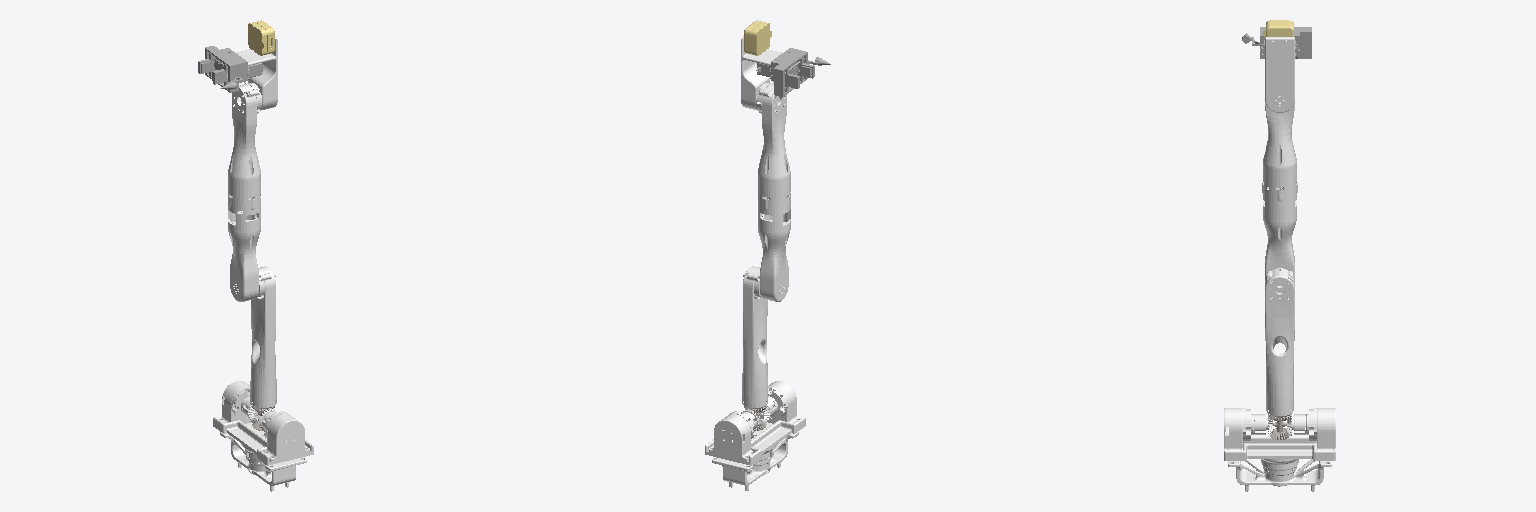
The robot description file, URDF, robot "bparm_5_1":
<?xml version="1.0" encoding="utf-8"?>
<!-- This URDF was automatically created by SolidWorks to URDF Exporter! Originally created by [author] ([email redacted]) 
     Commit Version: 1.6.0-4-g7f85cfe  Build Version: 1.6.7995.38578
     For more information, please see http://wiki.ros.org/sw_urdf_exporter -->
<robot
  name="bparm_5_1">
  <link
    name="base_link">
    <inertial>
      <origin
        xyz="0.000147714993379983 3.86437548627327E-11 0.0344335444558568"
        rpy="0 0 0" />
      <mass
        value="0.09275682784384" />
      <inertia
        ixx="0.000171517453339657"
        ixy="6.62437339286854E-10"
        ixz="1.19244230968858E-07"
        iyy="3.61830561224153E-05"
        iyz="1.12679946344087E-13"
        izz="0.000179050068336717" />
    </inertial>
    <visual>
      <origin
        xyz="0 0 0"
        rpy="0 0 0" />
      <geometry>
        <mesh
          filename="package://bparm_5_1_description/meshes/base_link.STL" />
      </geometry>
      <material
        name="">
        <color
          rgba="1 1 1 1" />
      </material>
    </visual>
    <collision>
      <origin
        xyz="0 0 0"
        rpy="0 0 0" />
      <geometry>
        <mesh
          filename="package://bparm_5_1_description/meshes/base_link.STL" />
      </geometry>
    </collision>
  </link>
  <link
    name="link1">
    <inertial>
      <origin
        xyz="-3.60001792265585E-09 0.0224429410533554 2.86723154053481E-05"
        rpy="0 0 0" />
      <mass
        value="0.242703771589133" />
      <inertia
        ixx="0.000119094117236868"
        ixy="1.44019124754279E-10"
        ixz="-2.20407452345011E-07"
        iyy="0.000279261953137755"
        iyz="-1.69484268438423E-07"
        izz="0.000242859744665875" />
    </inertial>
    <visual>
      <origin
        xyz="0 0 0"
        rpy="0 0 0" />
      <geometry>
        <mesh
          filename="package://bparm_5_1_description/meshes/link1.STL" />
      </geometry>
      <material
        name="">
        <color
          rgba="1 1 1 1" />
      </material>
    </visual>
    <collision>
      <origin
        xyz="0 0 0"
        rpy="0 0 0" />
      <geometry>
        <mesh
          filename="package://bparm_5_1_description/meshes/link1.STL" />
      </geometry>
    </collision>
  </link>
  <joint
    name="joint1"
    type="revolute">
    <origin
      xyz="0 0 0.0614999999999997"
      rpy="1.5707963267949 0 1.57079630573043" />
    <parent
      link="base_link" />
    <child
      link="link1" />
    <axis
      xyz="0 -1 0" />
    <limit
      lower="-1.8"
      upper="1.8"
      effort="1"
      velocity="1" />
  </joint>
  <link
    name="link2">
    <inertial>
      <origin
        xyz="-0.00682457800243758 -7.51609885440985E-10 3.29678837007741E-08"
        rpy="0 0 0" />
      <mass
        value="0.0145153852066725" />
      <inertia
        ixx="1.87202662285493E-06"
        ixy="-4.29603036576602E-14"
        ixz="-9.92179608420231E-15"
        iyy="1.29106359215905E-06"
        iyz="-3.47348383075651E-13"
        izz="1.23235197527979E-06" />
    </inertial>
    <visual>
      <origin
        xyz="0 0 0"
        rpy="0 0 0" />
      <geometry>
        <mesh
          filename="package://bparm_5_1_description/meshes/link2.STL" />
      </geometry>
      <material
        name="">
        <color
          rgba="0.776470588235294 0.756862745098039 0.737254901960784 1" />
      </material>
    </visual>
    <collision>
      <origin
        xyz="0 0 0"
        rpy="0 0 0" />
      <geometry>
        <mesh
          filename="package://bparm_5_1_description/meshes/link2.STL" />
      </geometry>
    </collision>
  </link>
  <joint
    name="joint2"
    type="revolute">
    <origin
      xyz="0 0.04 0"
      rpy="-1.57079634785937 0 -1.5707963267949" />
    <parent
      link="link1" />
    <child
      link="link2" />
    <axis
      xyz="0 0 1" />
    <limit
      lower="-1.8"
      upper="1.8"
      effort="1"
      velocity="1" />
  </joint>
  <link
    name="link3">
    <inertial>
      <origin
        xyz="-2.12079369469875E-05 0.100464889655343 -0.000408315812513715"
        rpy="0 0 0" />
      <mass
        value="0.191360304125798" />
      <inertia
        ixx="0.000620746471029824"
        ixy="4.73465457580558E-07"
        ixz="2.33932262032956E-08"
        iyy="3.89402242446652E-05"
        iyz="-1.62966617576368E-06"
        izz="0.000636034292716962" />
    </inertial>
    <visual>
      <origin
        xyz="0 0 0"
        rpy="0 0 0" />
      <geometry>
        <mesh
          filename="package://bparm_5_1_description/meshes/link3.STL" />
      </geometry>
      <material
        name="">
        <color
          rgba="1 1 1 1" />
      </material>
    </visual>
    <collision>
      <origin
        xyz="0 0 0"
        rpy="0 0 0" />
      <geometry>
        <mesh
          filename="package://bparm_5_1_description/meshes/link3.STL" />
      </geometry>
    </collision>
  </link>
  <joint
    name="joint3"
    type="revolute">
    <origin
      xyz="-0.0225398298614661 0 0"
      rpy="1.5707963267949 -1.5707963267949 0" />
    <parent
      link="link2" />
    <child
      link="link3" />
    <axis
      xyz="0 -1 0" />
    <limit
      lower="-1.8"
      upper="1.8"
      effort="1"
      velocity="1" />
  </joint>
  <link
    name="link4">
    <inertial>
      <origin
        xyz="5.4169476120941E-05 0.0711418303491069 -0.0139420842352693"
        rpy="0 0 0" />
      <mass
        value="0.165671646930781" />
      <inertia
        ixx="0.000168868249508342"
        ixy="-2.69469642449062E-08"
        ixz="4.05097447871256E-08"
        iyy="4.69717097850837E-05"
        iyz="-1.03327826883113E-06"
        izz="0.000175146940963635" />
    </inertial>
    <visual>
      <origin
        xyz="0 0 0"
        rpy="0 0 0" />
      <geometry>
        <mesh
          filename="package://bparm_5_1_description/meshes/link4.STL" />
      </geometry>
      <material
        name="">
        <color
          rgba="1 1 1 1" />
      </material>
    </visual>
    <collision>
      <origin
        xyz="0 0 0"
        rpy="0 0 0" />
      <geometry>
        <mesh
          filename="package://bparm_5_1_description/meshes/link4.STL" />
      </geometry>
    </collision>
  </link>
  <joint
    name="joint4"
    type="revolute">
    <origin
      xyz="0 0.2 -0.0190000000000045"
      rpy="0 0 0" />
    <parent
      link="link3" />
    <child
      link="link4" />
    <axis
      xyz="0 0 -1" />
    <limit
      lower="-2.35"
      upper="2.35"
      effort="1"
      velocity="1" />
  </joint>
  <link
    name="link5">
    <inertial>
      <origin
        xyz="6.80793618007547E-07 0.040464603044332 0.000591187634898072"
        rpy="0 0 0" />
      <mass
        value="0.164695579944042" />
      <inertia
        ixx="0.000192367151187575"
        ixy="-2.69244029869537E-07"
        ixz="1.70687310964095E-08"
        iyy="4.09586796976324E-05"
        iyz="1.24434581079354E-06"
        izz="0.000199970106498001" />
    </inertial>
    <visual>
      <origin
        xyz="0 0 0"
        rpy="0 0 0" />
      <geometry>
        <mesh
          filename="package://bparm_5_1_description/meshes/link5.STL" />
      </geometry>
      <material
        name="">
        <color
          rgba="1 1 1 1" />
      </material>
    </visual>
    <collision>
      <origin
        xyz="0 0 0"
        rpy="0 0 0" />
      <geometry>
        <mesh
          filename="package://bparm_5_1_description/meshes/link5.STL" />
      </geometry>
    </collision>
  </link>
  <joint
    name="joint5"
    type="revolute">
    <origin
      xyz="0 0.188 -0.014"
      rpy="0 0 0" />
    <parent
      link="link4" />
    <child
      link="link5" />
    <axis
      xyz="0 -1 0" />
    <limit
      lower="-1.8"
      upper="1.8"
      effort="1"
      velocity="1" />
  </joint>
  <link
    name="link6">
    <inertial>
      <origin
        xyz="0.0336178760368403 -0.0152798218033703 -2.9261767678368E-07"
        rpy="0 0 0" />
      <mass
        value="0.0706761356774253" />
      <inertia
        ixx="2.90112639724966E-05"
        ixy="6.50721999236753E-06"
        ixz="-4.21821952775762E-10"
        iyy="8.11759956239221E-05"
        iyz="-4.13421649699637E-10"
        izz="8.55719171336377E-05" />
    </inertial>
    <visual>
      <origin
        xyz="0 0 0"
        rpy="0 0 0" />
      <geometry>
        <mesh
          filename="package://bparm_5_1_description/meshes/link6.STL" />
      </geometry>
      <material
        name="">
        <color
          rgba="1 1 1 1" />
      </material>
    </visual>
    <collision>
      <origin
        xyz="0 0 0"
        rpy="0 0 0" />
      <geometry>
        <mesh
          filename="package://bparm_5_1_description/meshes/link6.STL" />
      </geometry>
    </collision>
  </link>
  <joint
    name="joint6"
    type="revolute">
    <origin
      xyz="0 0.122 0.0465"
      rpy="1.5708 0 1.5708" />
    <parent
      link="link5" />
    <child
      link="link6" />
    <axis
      xyz="0 -1 0" />
    <limit
      lower="-2.35"
      upper="2.35"
      effort="1"
      velocity="1" />
  </joint>
  <link
    name="linkCamera">
    <inertial>
      <origin
        xyz="-7.89823422421149E-05 8.5034083425084E-05 -0.0113644630680405"
        rpy="0 0 0" />
      <mass
        value="1.07678808685044" />
      <inertia
        ixx="0.000197188419732538"
        ixy="-1.12309543914858E-08"
        ixz="-4.1690465254123E-07"
        iyy="0.000197433047359348"
        iyz="2.96522504119722E-07"
        izz="0.000301366659761361" />
    </inertial>
    <visual>
      <origin
        xyz="0 0 0"
        rpy="0 0 0" />
      <geometry>
        <mesh
          filename="package://bparm_5_1_description/meshes/linkCamera.STL" />
      </geometry>
      <material
        name="">
        <color
          rgba="1 0.941176470588235 0.67843137254902 1" />
      </material>
    </visual>
    <collision>
      <origin
        xyz="0 0 0"
        rpy="0 0 0" />
      <geometry>
        <mesh
          filename="package://bparm_5_1_description/meshes/linkCamera.STL" />
      </geometry>
    </collision>
  </link>
  <gazebo reference="linkCamera">
    <sensor name="camera_sensor" type="camera">
      <pose>0 0 0 0 0 0</pose> <!-- relative to linkCamera -->
      <camera>
        <horizontal_fov>1.3962634</horizontal_fov> <!-- 80 degrees -->
        <image>
          <width>640</width>
          <height>480</height>
          <format>R8G8B8</format>
        </image>
        <clip>
          <near>0.1</near>
          <far>100</far>
        </clip>
      </camera>
      <always_on>true</always_on>
      <update_rate>30</update_rate>
      <visualize>true</visualize>
      <plugin name="camera_controller" filename="libgazebo_ros_camera.so">
        <ros>
          <namespace>/camera</namespace>
        </ros>
        <camera_name>camera</camera_name>
        <image_topic_name>image_raw</image_topic_name>
        <camera_info_topic_name>camera_info</camera_info_topic_name>
        <frame_name>linkCamera</frame_name>
      </plugin>
    </sensor>
  </gazebo>
  <joint
    name="jointCamera"
    type="fixed">
    <origin
      xyz="0.095 -0.028 0"
      rpy="1.5708 1.5708 0" />
    <parent
      link="link6" />
    <child
      link="linkCamera" />
    <axis
      xyz="0 0 0" />
  </joint>
  <link
    name="linkGripper">
    <inertial>
      <origin
        xyz="-0.000629194753795748 -0.0571025904165044 0.0513770429505706"
        rpy="0 0 0" />
      <mass
        value="0.113939986237523" />
      <inertia
        ixx="3.98127746222516E-05"
        ixy="-1.19188958861041E-06"
        ixz="-3.01428896460108E-07"
        iyy="4.3563309926854E-05"
        iyz="1.25186187910718E-06"
        izz="1.45864743052104E-05" />
    </inertial>
    <visual>
      <origin
        xyz="0 0 0"
        rpy="0 0 0" />
      <geometry>
        <mesh
          filename="package://bparm_5_1_description/meshes/linkGripper.STL" />
      </geometry>
      <material
        name="">
        <color
          rgba="0.752941176470588 0.752941176470588 0.752941176470588 1" />
      </material>
    </visual>
    <collision>
      <origin
        xyz="0 0 0"
        rpy="0 0 0" />
      <geometry>
        <mesh
          filename="package://bparm_5_1_description/meshes/linkGripper.STL" />
      </geometry>
    </collision>
  </link>
  <joint
    name="jointGripper"
    type="fixed">
    <origin
      xyz="0.054633 -0.11705 -0.049298"
      rpy="0 -0.0087266 3.1416" />
    <parent
      link="link6" />
    <child
      link="linkGripper" />
    <axis
      xyz="0 0 0" />
  </joint>
</robot>

--- Facts derived from the render (not from the file) ---
The picture shows the robot from 3 angles, left to right: view 1: azimuth 30°, elevation 25°; view 2: azimuth 150°, elevation 25°; view 3: azimuth 270°, elevation 25°; orthographic projection.
Robot: bparm_5_1 — 9 links, 8 joints (6 revolute, 2 fixed); root link base_link; default pose: every joint at zero.
Visible links, largest first — view 1: link1, link3, link5, link4, linkGripper, base_link, link6, linkCamera; view 2: link1, link3, link4, link5, linkGripper, base_link, link6, linkCamera; view 3: link1, link3, link4, link5, link6, base_link, linkGripper.
Boxes of the visible links, box(x1,y1,x2,y2) form: link1: box(213, 381, 313, 465); link3: box(250, 266, 276, 407); link5: box(228, 82, 261, 197); link4: box(228, 193, 260, 301); linkGripper: box(198, 46, 262, 92); base_link: box(220, 432, 306, 491); link6: box(237, 37, 277, 110); linkCamera: box(248, 20, 274, 55); link1: box(705, 381, 805, 465); link3: box(742, 266, 767, 407); link4: box(758, 192, 790, 301); link5: box(756, 82, 790, 197); linkGripper: box(756, 48, 830, 96); base_link: box(712, 432, 798, 490); link6: box(741, 36, 781, 110); linkCamera: box(744, 20, 771, 55); link1: box(1224, 408, 1335, 460); link3: box(1265, 268, 1294, 415); link4: box(1262, 182, 1297, 286); link5: box(1263, 95, 1296, 187); link6: box(1265, 37, 1294, 112); base_link: box(1228, 459, 1331, 491); linkGripper: box(1242, 27, 1311, 58).
Bounding box of the posed robot: 0.1445 × 0.1647 × 0.75 m (x, y, z).
Meshes: 9 distinct files referenced, 9 mesh visuals loaded (9 binary STL).
